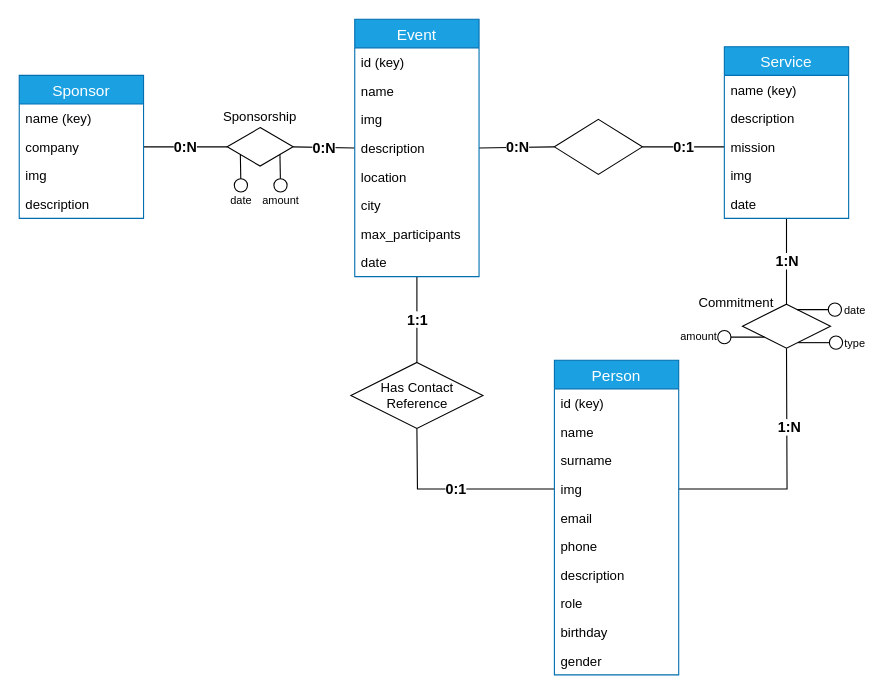
Some shapes in this 887 by 697 pixel diagram are drawn without their labels. The centre of each missing label's shape, as x and y in pixels:
"Has" goes at (x=259, y=146).
"involves" goes at (x=786, y=325).
"Presents" goes at (x=597, y=146).
